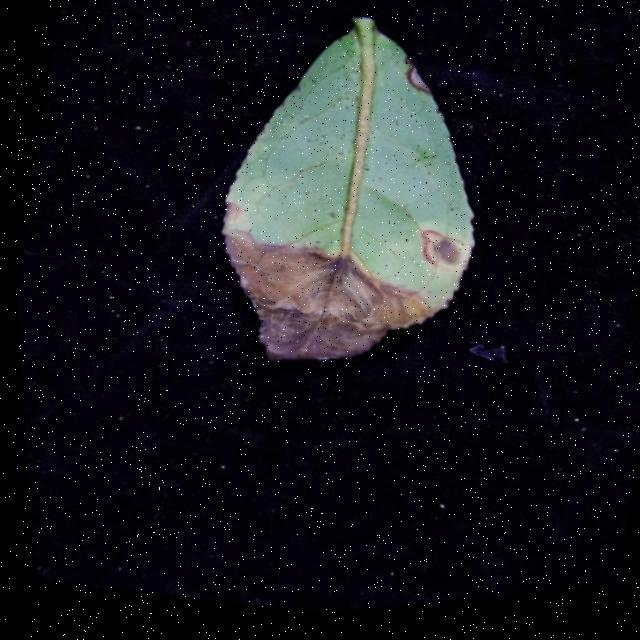Tea cloud leaf blight: (198, 187, 475, 425)
